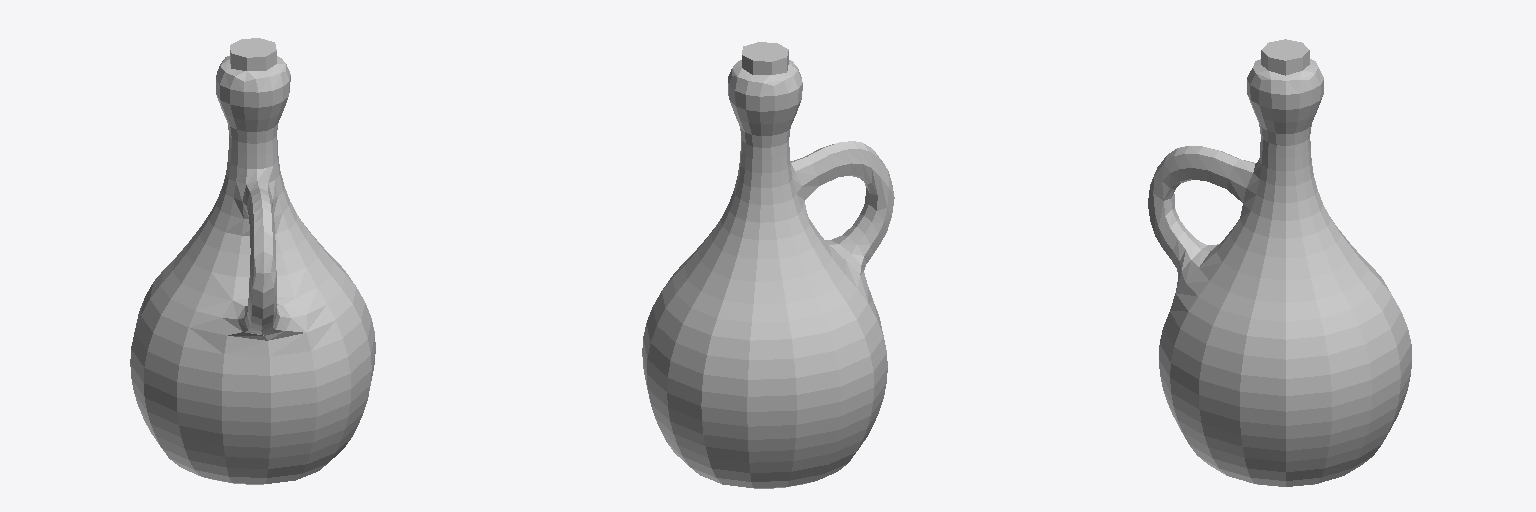
File: PotionBottle_SubstancePaint.obj
The picture shows the model from 3 angles: view 1: azimuth 30°, elevation 25°; view 2: azimuth 150°, elevation 25°; view 3: azimuth 270°, elevation 25°; orthographic projection.
Parts seen in each view (by area): view 1: default; view 2: default; view 3: default.
Boxes of the visible parts, x1,y1,x2,y2 form: default: [130, 38, 375, 484]; default: [642, 42, 894, 488]; default: [1148, 39, 1411, 486].
Bounding box in the file's own units: 3.91 × 7.05 × 4.1.